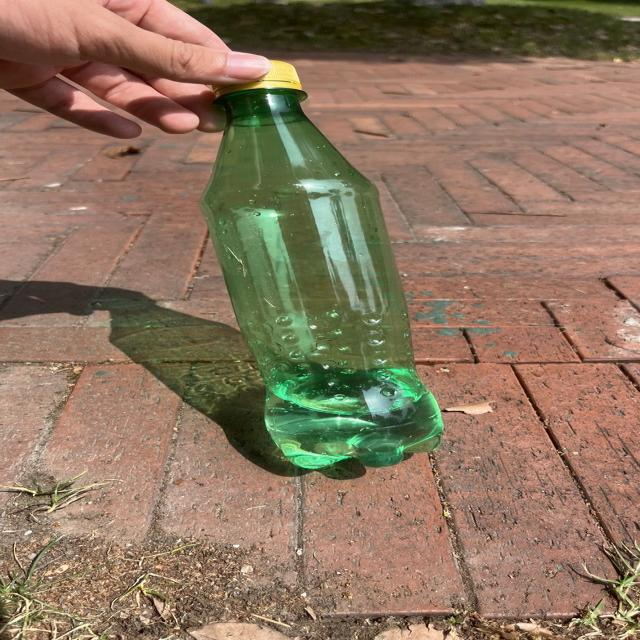low: (201, 61, 442, 469)
